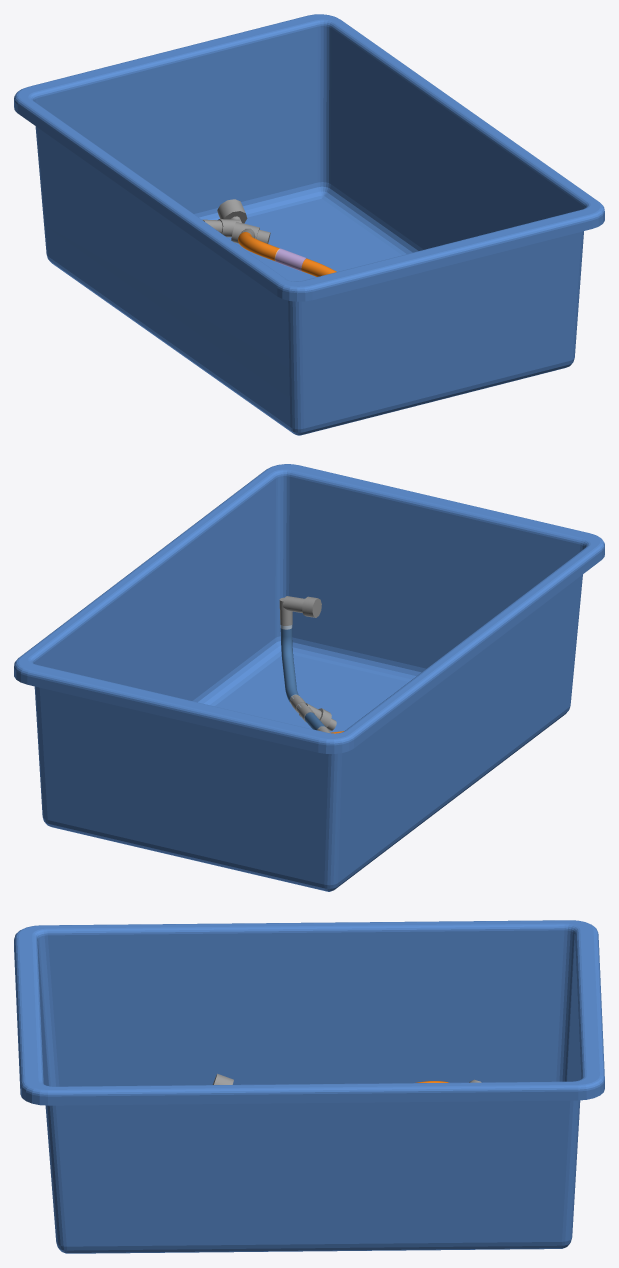
3 renders of one model, top to bottom at view 1: azimuth 30°, elevation 25°; view 2: azimuth 150°, elevation 25°; view 3: azimuth 270°, elevation 25°, orthographic. The views are drawn at different scales.
Parts seen in each view (by area): view 1: bin, tube_1_X, tube_2_X; view 2: bin, tube_0_AB; view 3: bin.
Boxes of the visible parts, x1=… form: bin: x1=14, y1=14, x2=604, y2=435; tube_1_X: x1=231, y1=222, x2=336, y2=276; tube_2_X: x1=202, y1=199, x2=247, y2=237; bin: x1=14, y1=464, x2=604, y2=891; tube_0_AB: x1=279, y1=596, x2=336, y2=733; bin: x1=14, y1=920, x2=604, y2=1253.
Size of the model in its own units: 0.4102 by 0.1962 by 0.5934.
